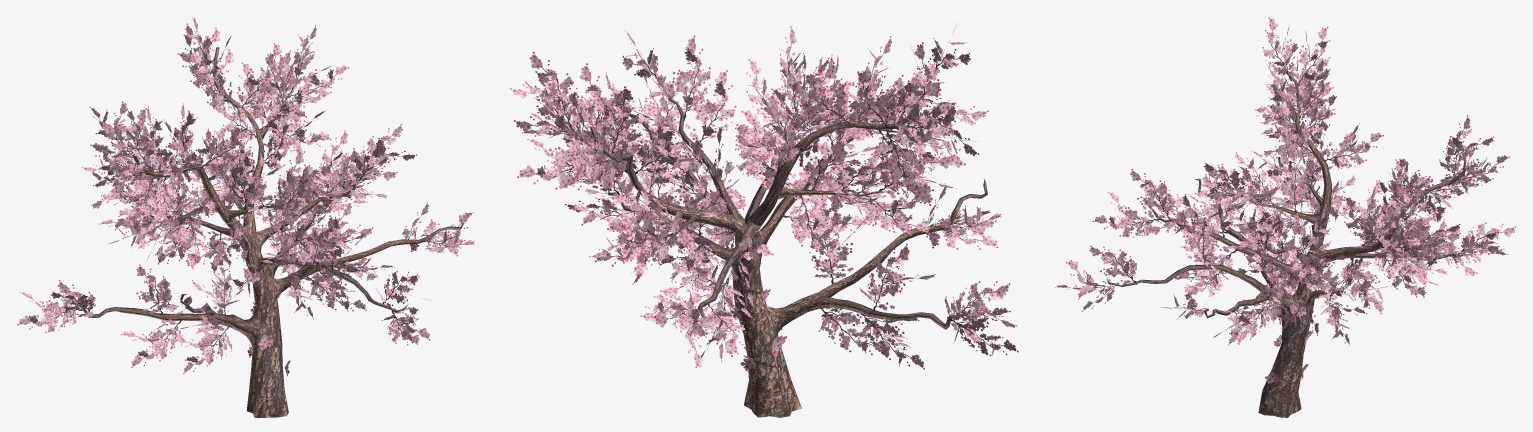
Rendered from sakura.glb.
3 renders of one model, left to right at view 1: azimuth 30°, elevation 25°; view 2: azimuth 150°, elevation 25°; view 3: azimuth 270°, elevation 25°, orthographic. The views are drawn at different scales.
Visible parts, largest first — view 1: Object002_sakura_branch_new01_1Mat_0, Object001_mossybark02_0Mat_0; view 2: Object002_sakura_branch_new01_1Mat_0, Object001_mossybark02_0Mat_0; view 3: Object002_sakura_branch_new01_1Mat_0, Object001_mossybark02_0Mat_0.
Part boxes in pixels (<box>): Object002_sakura_branch_new01_1Mat_0: <box>17,17,474,376</box>; Object001_mossybark02_0Mat_0: <box>61,47,473,417</box>; Object002_sakura_branch_new01_1Mat_0: <box>510,26,1018,371</box>; Object001_mossybark02_0Mat_0: <box>566,80,987,417</box>; Object002_sakura_branch_new01_1Mat_0: <box>1055,17,1515,383</box>; Object001_mossybark02_0Mat_0: <box>1107,70,1466,417</box>.
Bounding box in the file's own units: 48.56 × 39.44 × 50.97.
Materials: 2 (2 with a texture image).
